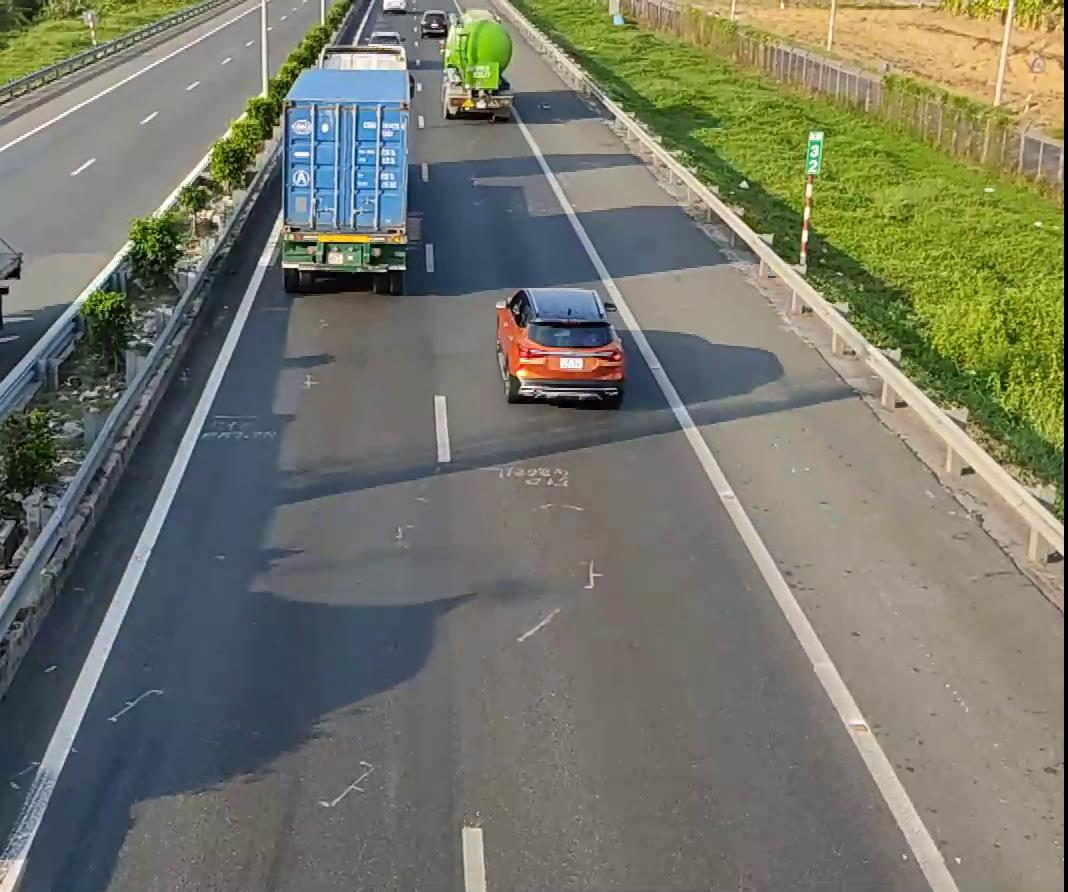car: (494, 287, 626, 404)
container: (277, 26, 411, 292), (440, 5, 514, 118)
